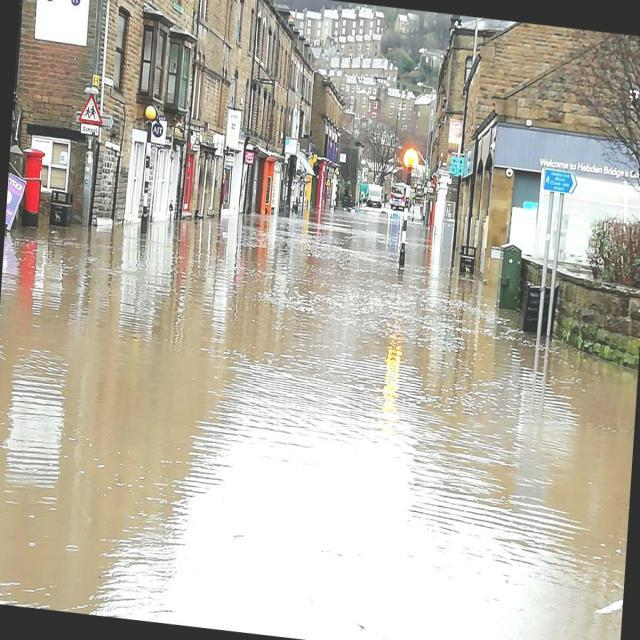flood: (0, 154, 639, 639)
